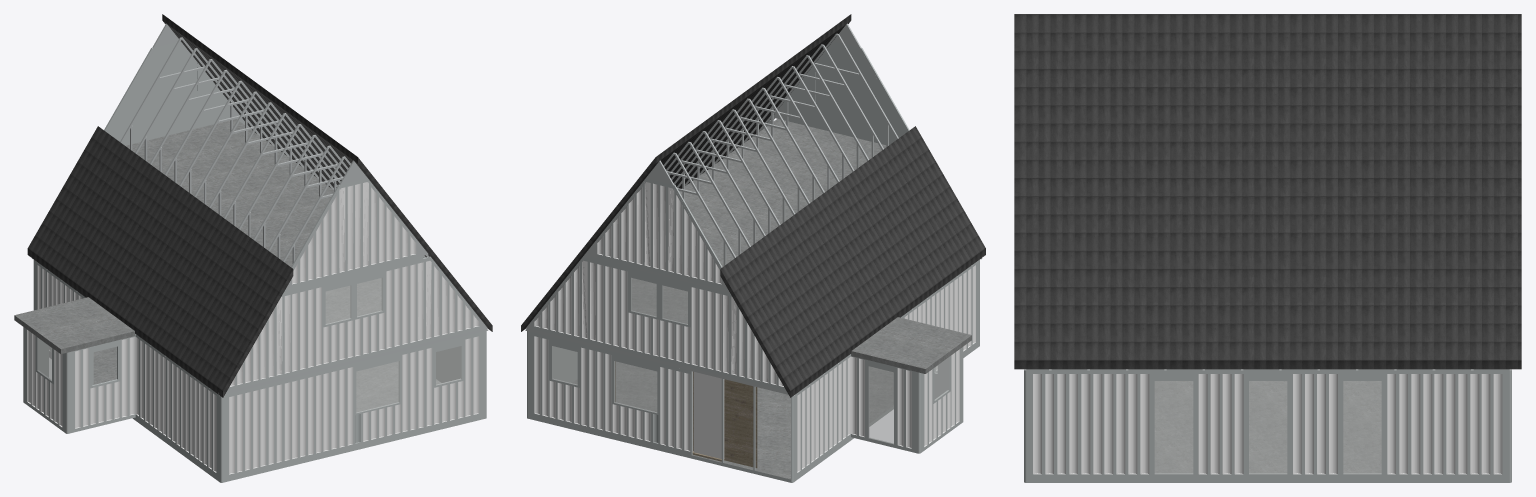
File: manhaus.glb
3 views of the same model, side by side, from view 1: azimuth 30°, elevation 25°; view 2: azimuth 150°, elevation 25°; view 3: azimuth 270°, elevation 25° (orthographic). The views are drawn at different scales.
Parts seen in each view (by area): view 1: VisualSceneNode1.171, VisualSceneNode1.198, VisualSceneNode1.170, VisualSceneNode1.172, VisualSceneNode1.124, VisualSceneNode1.167, VisualSceneNode1.090, VisualSceneNode1.100, VisualSceneNode1.094, VisualSceneNode1.109, VisualSceneNode1.095, VisualSceneNode1.102 (+41 smaller); view 2: VisualSceneNode1.171, VisualSceneNode1.198, VisualSceneNode1.124, VisualSceneNode1.170, VisualSceneNode1.172, VisualSceneNode1.193, VisualSceneNode1.157, VisualSceneNode1.012, VisualSceneNode1.016, VisualSceneNode1.060, VisualSceneNode1.054, VisualSceneNode1.153 (+41 smaller); view 3: VisualSceneNode1.170, VisualSceneNode1.124, VisualSceneNode1.150, VisualSceneNode1.143, VisualSceneNode1.132, VisualSceneNode1.146, VisualSceneNode1.138, VisualSceneNode1.131, VisualSceneNode1.140, VisualSceneNode1.135, VisualSceneNode1.129, VisualSceneNode1.149 (+5 smaller).
Boxes of the visible parts, bbox=[...] form: VisualSceneNode1.171: bbox=[27, 126, 293, 397]; VisualSceneNode1.198: bbox=[125, 119, 423, 292]; VisualSceneNode1.170: bbox=[162, 14, 492, 331]; VisualSceneNode1.172: bbox=[14, 297, 134, 353]; VisualSceneNode1.124: bbox=[49, 346, 486, 482]; VisualSceneNode1.167: bbox=[322, 182, 353, 279]; VisualSceneNode1.090: bbox=[402, 344, 432, 435]; VisualSceneNode1.100: bbox=[260, 379, 290, 470]; VisualSceneNode1.094: bbox=[323, 363, 353, 454]; VisualSceneNode1.109: bbox=[386, 261, 416, 351]; VisualSceneNode1.095: bbox=[292, 371, 321, 462]; VisualSceneNode1.102: bbox=[229, 386, 258, 477]; VisualSceneNode1.171: bbox=[720, 126, 985, 397]; VisualSceneNode1.198: bbox=[590, 119, 886, 291]; VisualSceneNode1.124: bbox=[527, 343, 979, 482]; VisualSceneNode1.170: bbox=[521, 14, 851, 331]; VisualSceneNode1.172: bbox=[851, 317, 971, 373]; VisualSceneNode1.193: bbox=[693, 371, 757, 468]; VisualSceneNode1.157: bbox=[660, 182, 690, 279]; VisualSceneNode1.012: bbox=[581, 344, 611, 435]; VisualSceneNode1.016: bbox=[660, 363, 690, 454]; VisualSceneNode1.060: bbox=[691, 284, 721, 374]; VisualSceneNode1.054: bbox=[597, 261, 627, 351]; VisualSceneNode1.153: bbox=[628, 178, 658, 272]; VisualSceneNode1.170: bbox=[1014, 14, 1521, 369]; VisualSceneNode1.124: bbox=[1024, 381, 1511, 482]; VisualSceneNode1.150: bbox=[1033, 369, 1102, 478]; VisualSceneNode1.143: bbox=[1104, 369, 1149, 478]; VisualSceneNode1.132: bbox=[1387, 369, 1432, 478]; VisualSceneNode1.146: bbox=[1434, 369, 1479, 478]; VisualSceneNode1.138: bbox=[1198, 369, 1243, 478]; VisualSceneNode1.131: bbox=[1293, 369, 1337, 478]; VisualSceneNode1.140: bbox=[1154, 381, 1193, 474]; VisualSceneNode1.135: bbox=[1249, 381, 1287, 474]; VisualSceneNode1.129: bbox=[1343, 381, 1381, 474]; VisualSceneNode1.149: bbox=[1481, 369, 1502, 478].
Size of the model in its own units: 10.74 by 8.85 by 10.57.
Materials: 8 (3 with a texture image).
